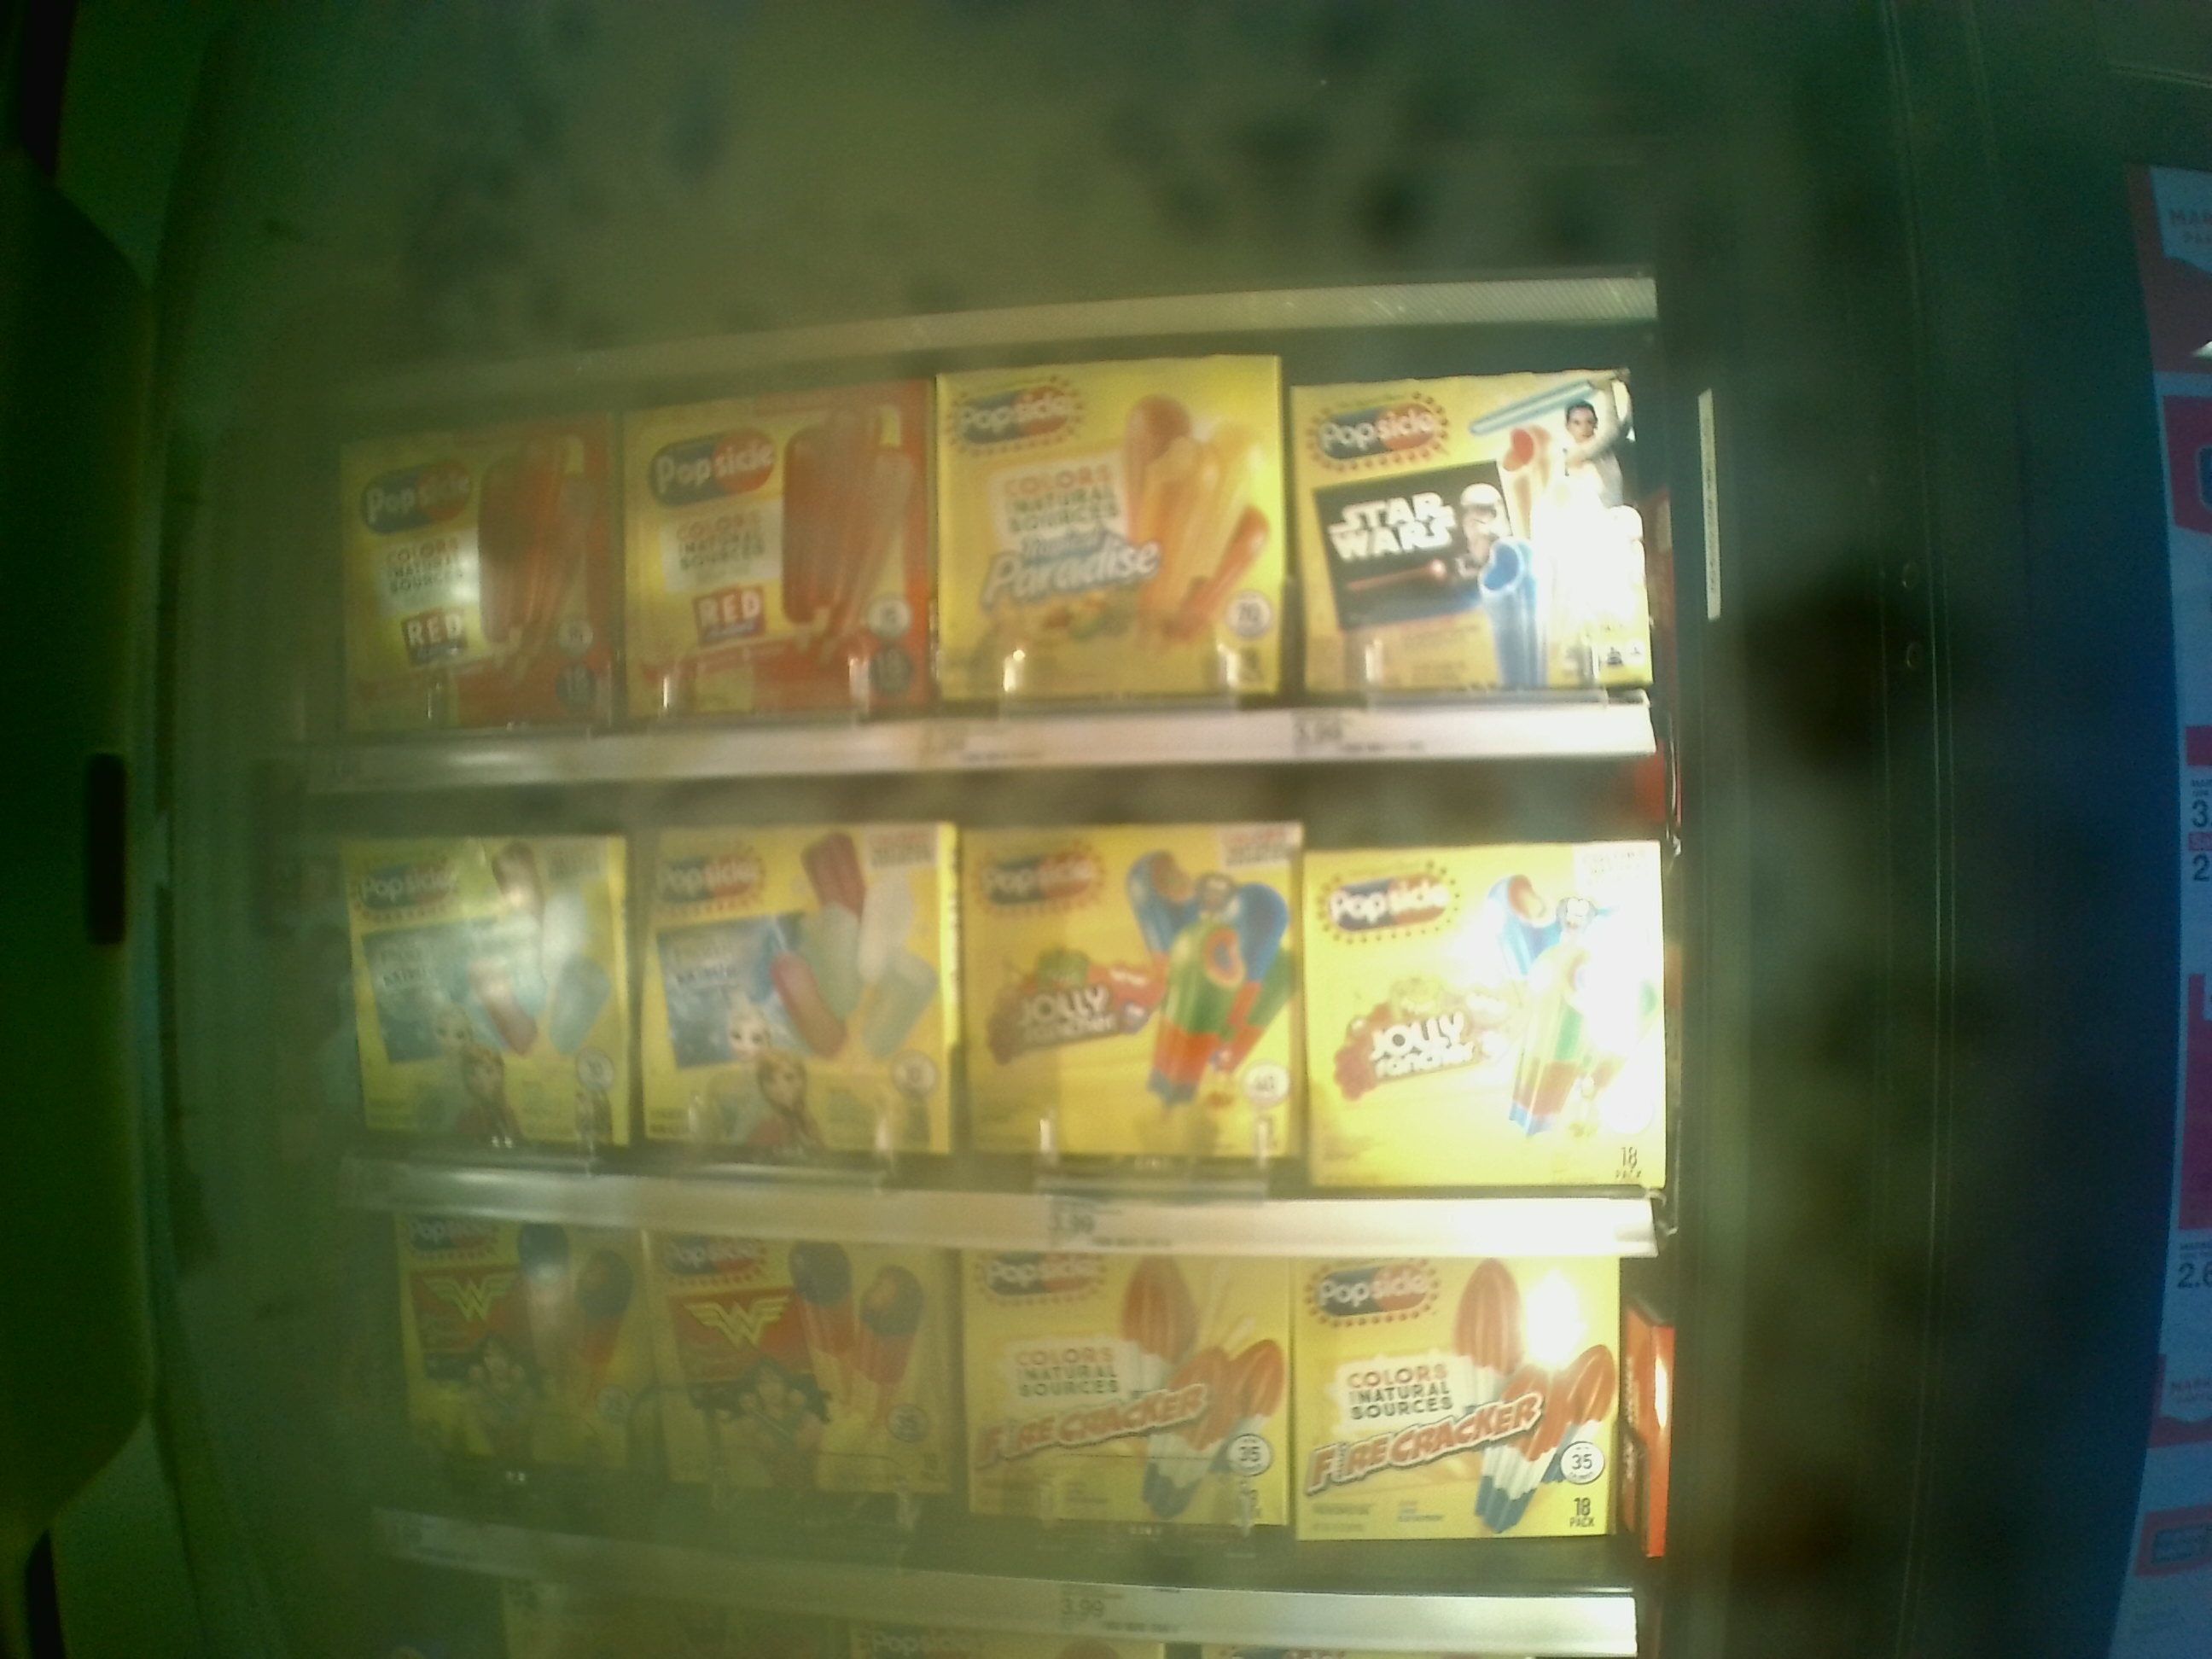frozen-food-shelf: (289, 793, 1674, 1258), (280, 355, 1674, 788)
